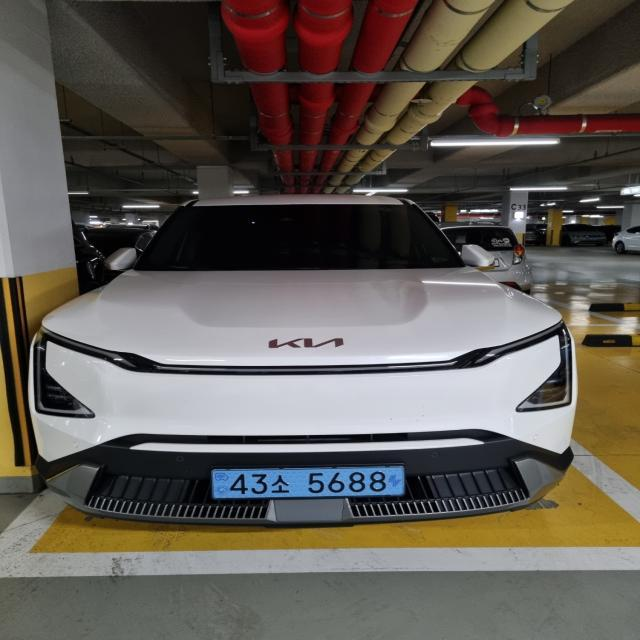car: (185, 456, 427, 509)
carev: (385, 464, 410, 498), (211, 463, 230, 503)
